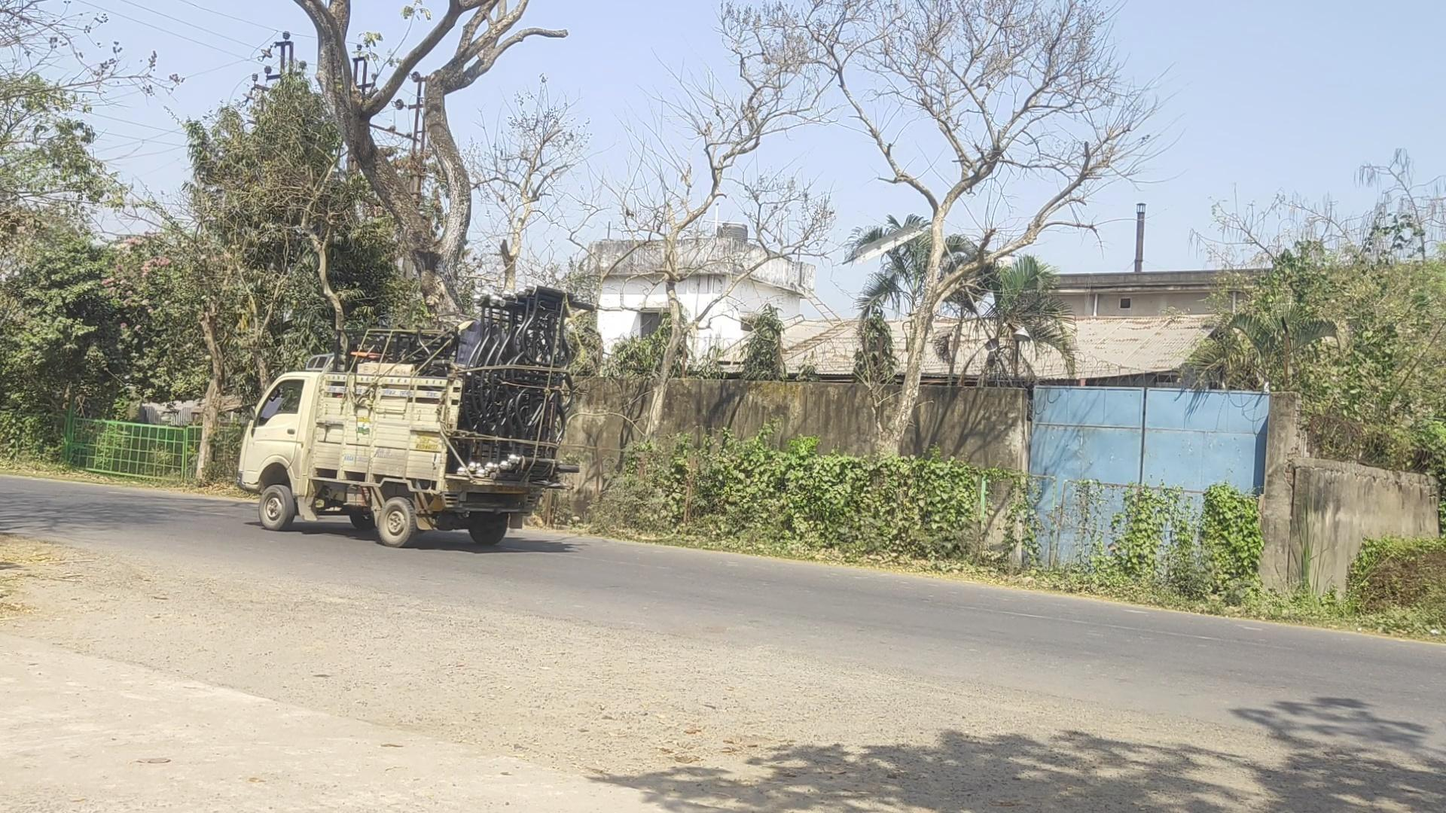van: (236, 285, 574, 548)
